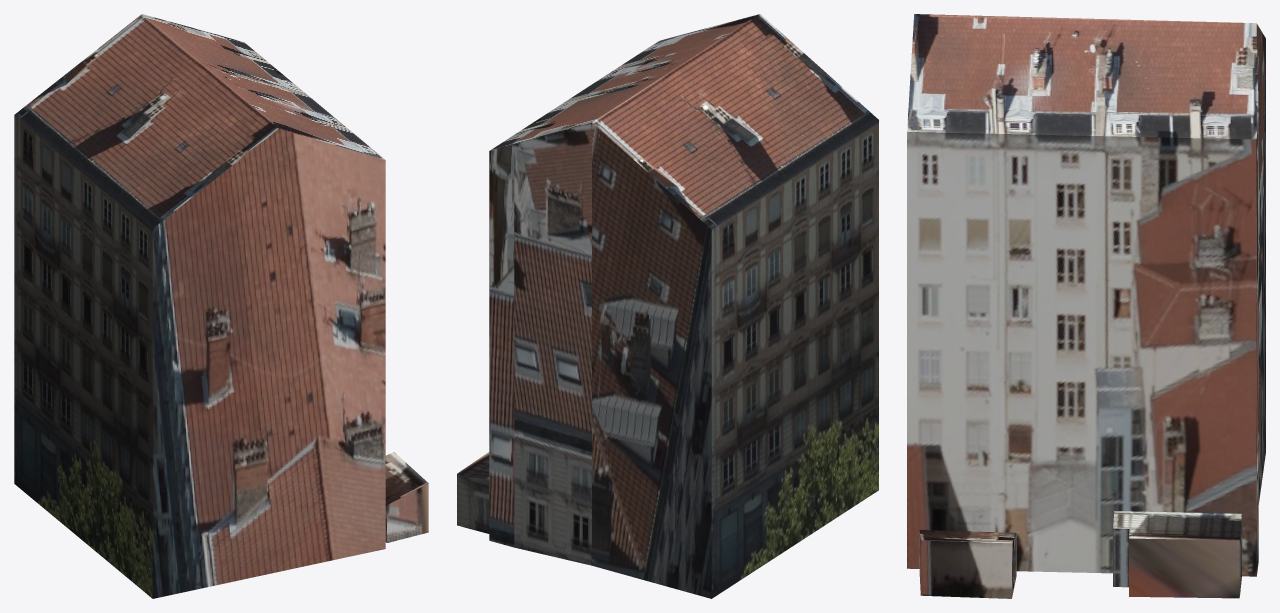
3 renders of one model, left to right at view 1: azimuth 30°, elevation 25°; view 2: azimuth 150°, elevation 25°; view 3: azimuth 270°, elevation 25°, orthographic. The views are drawn at different scales.
Parts seen in each view (by area): view 1: Z_UP; view 2: Z_UP; view 3: Z_UP.
Part boxes in pixels (<box>): Z_UP: <box>14,14,428,598</box>; Z_UP: <box>457,14,878,598</box>; Z_UP: <box>907,14,1265,598</box>.
Size of the model in its own units: 18.22 by 27.46 by 17.94.
Materials: 2 (1 with a texture image).
